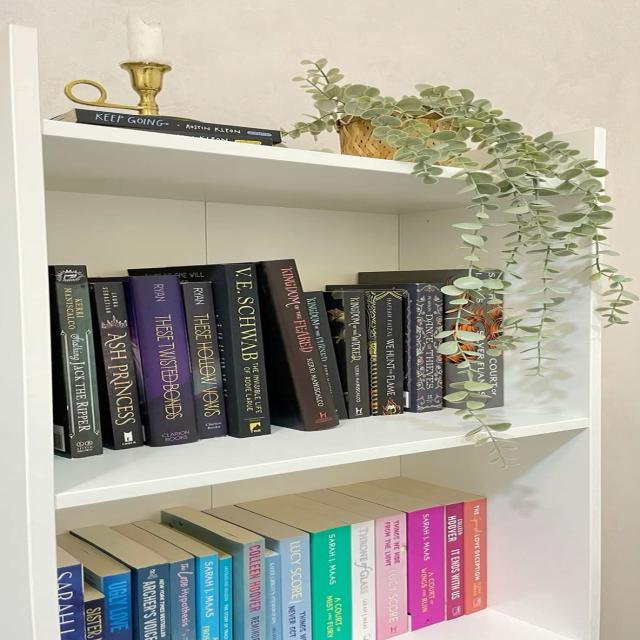book: (256, 259, 338, 431), (130, 276, 198, 447), (205, 263, 270, 438), (49, 265, 102, 458), (90, 277, 143, 450), (71, 109, 279, 146), (388, 282, 443, 412), (442, 295, 503, 409), (182, 282, 226, 439), (323, 290, 370, 418), (303, 292, 346, 419), (365, 290, 404, 415), (406, 506, 445, 630), (311, 525, 353, 640), (375, 514, 408, 640), (280, 534, 313, 640), (351, 520, 376, 640), (463, 498, 486, 614), (138, 562, 172, 640), (242, 539, 267, 640), (443, 503, 463, 619), (102, 572, 135, 640), (170, 558, 197, 639), (58, 564, 86, 640), (198, 554, 221, 640), (264, 555, 282, 640), (358, 270, 460, 284), (219, 556, 234, 640), (84, 597, 106, 640)
candle: (65, 17, 170, 114)
plants: (281, 60, 637, 461)
